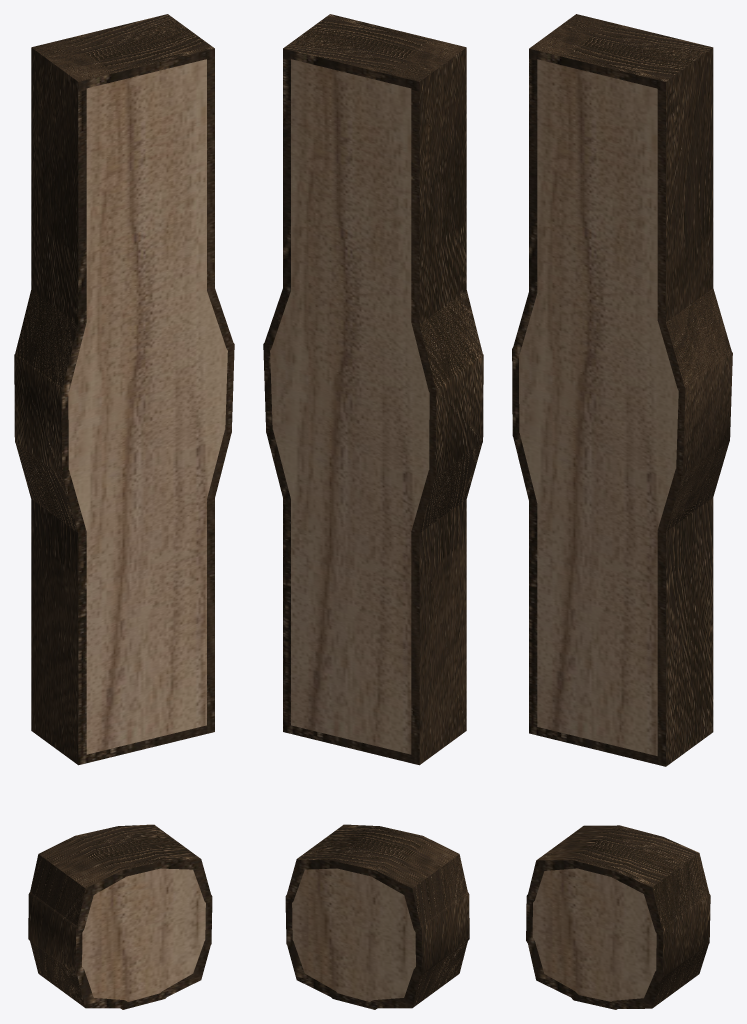
File: Exclamation.FBX
The picture shows the model from 3 angles, left to right: view 1: azimuth 30°, elevation 25°; view 2: azimuth 150°, elevation 25°; view 3: azimuth 330°, elevation 25°; orthographic projection.
Visible parts, largest first — view 1: Exclamation, Exclamation_outline; view 2: Exclamation, Exclamation_outline; view 3: Exclamation, Exclamation_outline.
Boxes of the visible parts, x1,y1,x2,y2 form: Exclamation: (68,59,227,1001); Exclamation_outline: (14,14,234,1009); Exclamation: (270,59,429,1001); Exclamation_outline: (263,14,483,1009); Exclamation: (519,59,678,1001); Exclamation_outline: (512,14,732,1009).
Size of the model in its own units: 21.15 by 110 by 10.
Materials: 2 (2 with a texture image).
